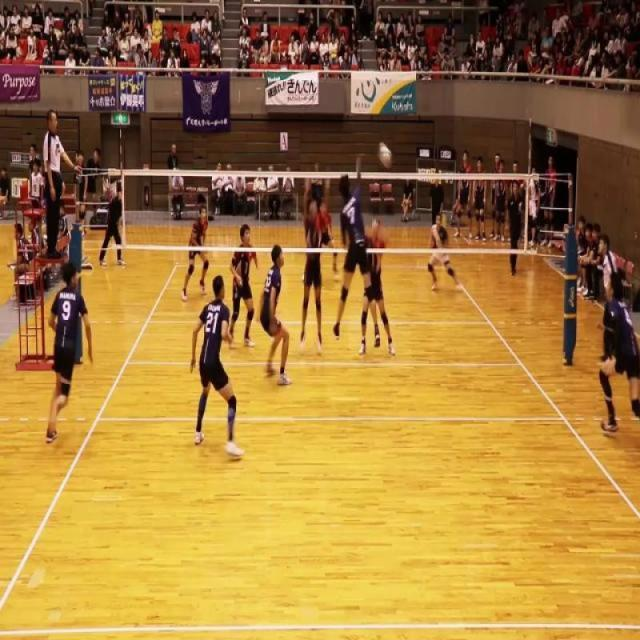volleyball: (377, 140, 393, 169)
